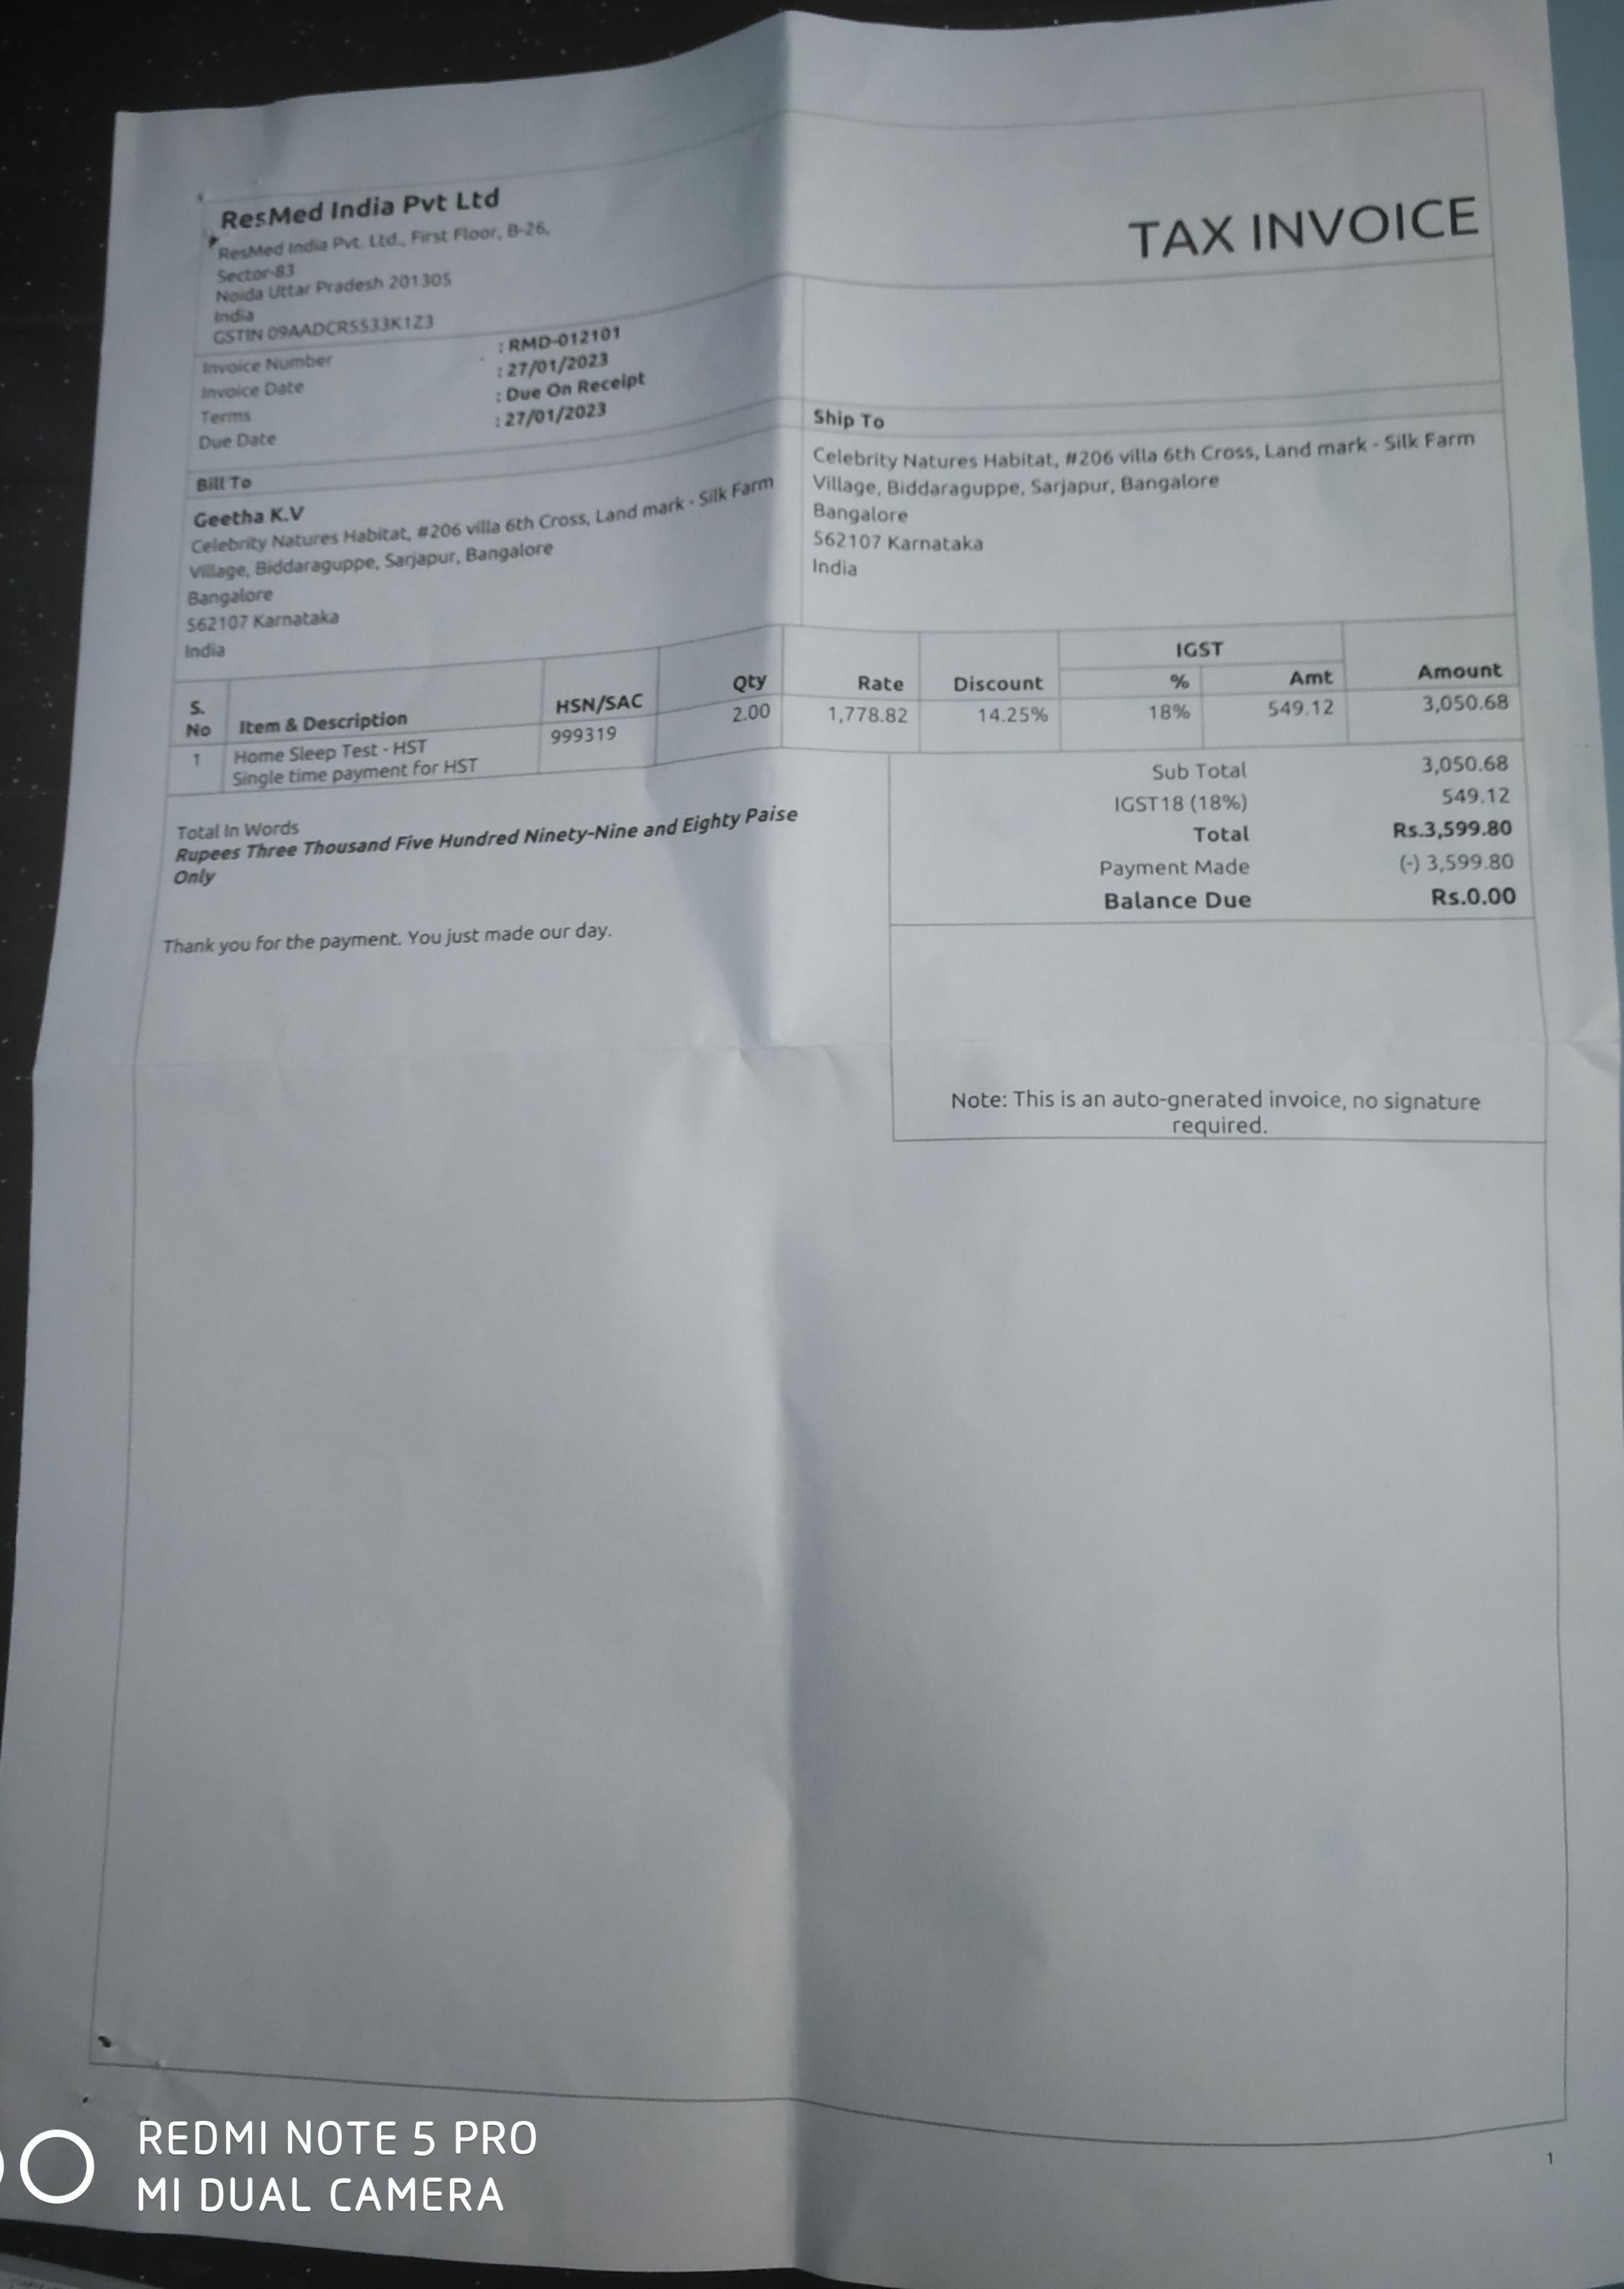InvoiceDate: (492, 355, 615, 374)
InvoiceNumber: (494, 320, 636, 348)
TotalAmount: (1390, 816, 1519, 847)
